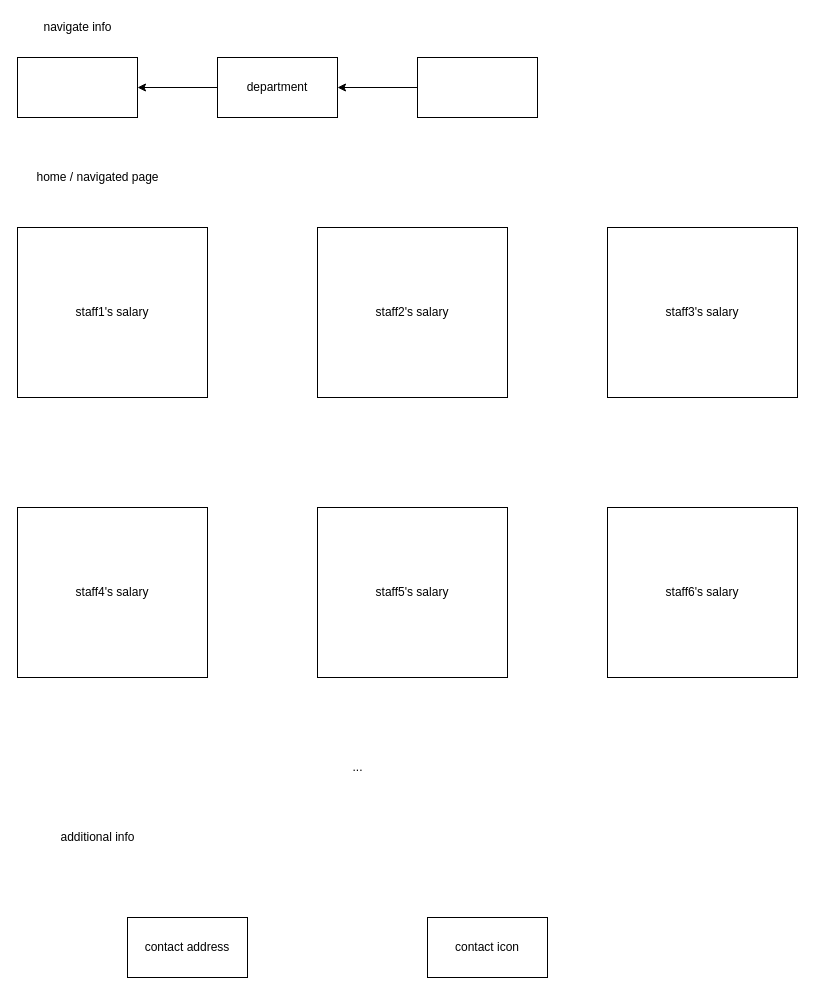
This 815x995 diagram has some shape labels left out. The shapes that lost their labels are listed below. From the top down, each one's box as (x1, y1, x2, y2) in pixels, then its label:
(16, 56, 138, 118): home
(416, 56, 538, 118): salary
